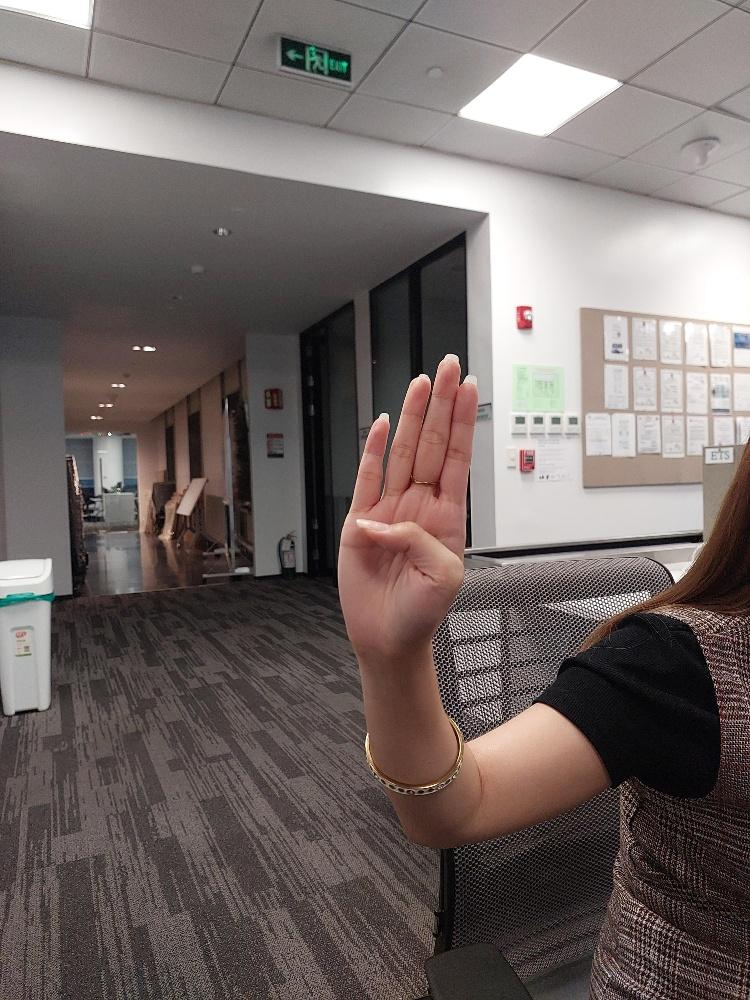b: (334, 349, 479, 669)
